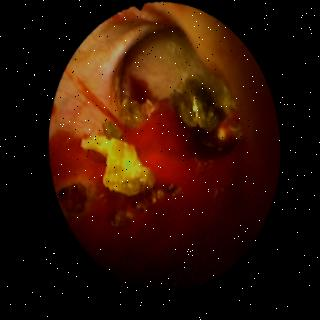stone: (81, 124, 153, 196), (171, 80, 225, 135), (119, 99, 140, 130)
tissue: (50, 9, 272, 288)
